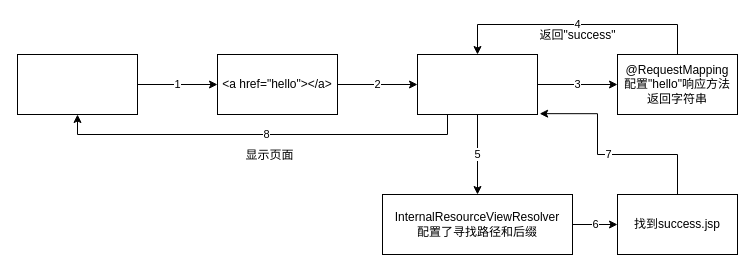
The diagram is 755 pixels wide and 272 high, and some of its shapes have lost their labels. The shapes that lost their labels are listed below. From the top down, each one's centre as x and y in pixels, then its label:
At [77,84]: "浏览器".
At [477,84]: "DispatcherServlet".
